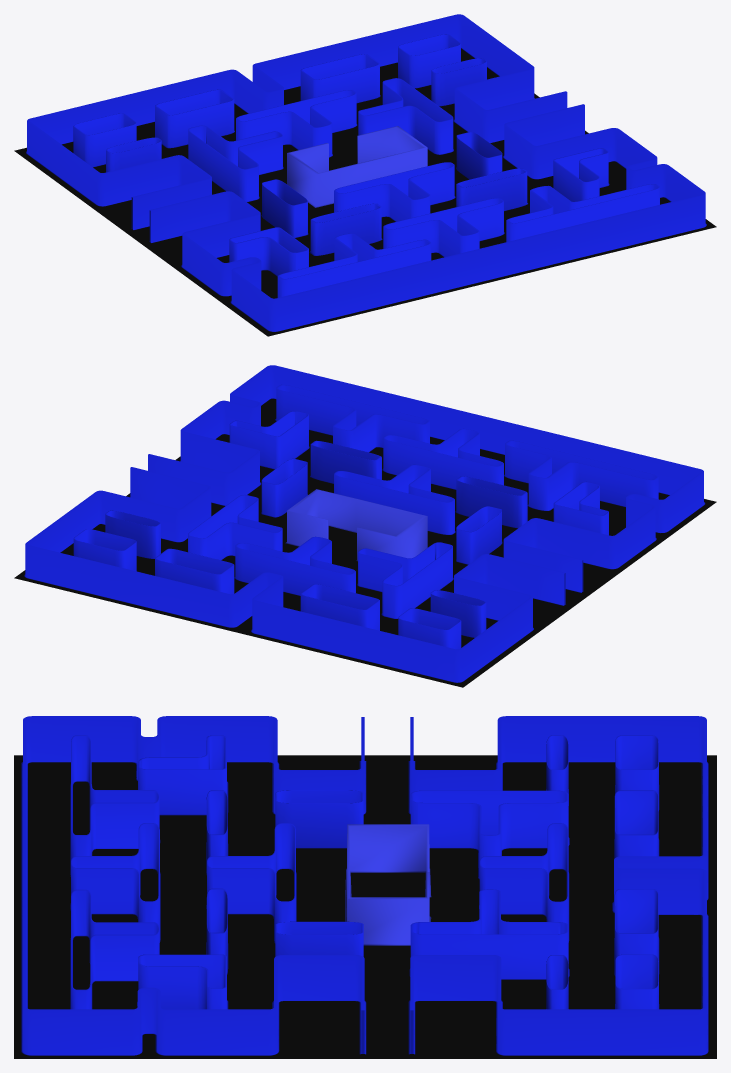
File: mazeWith2halfDepthRedux.fbx
3 views of the same model, one above another, from view 1: azimuth 30°, elevation 25°; view 2: azimuth 150°, elevation 25°; view 3: azimuth 270°, elevation 25° (orthographic). The views are drawn at different scales.
Parts seen in each view (by area): view 1: Plane.021, Floor, Plane.001, Plane.002, Plane.004, Plane.005, Plane.006, Plane, Plane.007, Plane.003, Plane.019, Plane.020 (+10 smaller); view 2: Plane.021, Floor, Plane.001, Plane, Plane.007, Plane.002, Plane.006, Plane.004, Plane.005, Plane.003, Plane.009, Plane.020 (+10 smaller); view 3: Floor, Plane.021, Plane.002, Plane.001, Plane.003, Plane, Plane.007, Plane.004, Plane.006, Plane.005, Plane.008, Plane.009 (+10 smaller).
Part boxes in pixels (left/top/right/bottom): Plane.021: left=26, top=14, right=706, bottom=331; Floor: left=14, top=48, right=716, bottom=336; Plane.001: left=287, top=126, right=427, bottom=207; Plane.002: left=188, top=125, right=283, bottom=201; Plane.004: left=236, top=90, right=357, bottom=157; Plane.005: left=334, top=162, right=455, bottom=221; Plane.006: left=383, top=198, right=504, bottom=257; Plane: left=277, top=233, right=431, bottom=297; Plane.007: left=506, top=184, right=659, bottom=241; Plane.003: left=358, top=78, right=453, bottom=154; Plane.019: left=155, top=89, right=234, bottom=148; Plane.020: left=300, top=54, right=380, bottom=103; Plane.021: left=24, top=365, right=705, bottom=682; Floor: left=14, top=398, right=716, bottom=687; Plane.001: left=285, top=489, right=427, bottom=561; Plane: left=504, top=440, right=658, bottom=510; Plane.007: left=275, top=384, right=429, bottom=452; Plane.002: left=357, top=542, right=453, bottom=618; Plane.006: left=382, top=428, right=503, bottom=489; Plane.004: left=234, top=536, right=355, bottom=595; Plane.005: left=334, top=464, right=455, bottom=534; Plane.003: left=188, top=495, right=282, bottom=560; Plane.009: left=229, top=411, right=309, bottom=469; Plane.020: left=155, top=548, right=234, bottom=594; Floor: left=14, top=755, right=716, bottom=1058; Plane.021: left=21, top=716, right=708, bottom=1055; Plane.002: left=410, top=790, right=569, bottom=879; Plane.001: left=345, top=824, right=431, bottom=945; Plane.003: left=409, top=889, right=569, bottom=979; Plane: left=70, top=735, right=160, bottom=876; Plane.007: left=70, top=889, right=159, bottom=1009; Plane.004: left=479, top=823, right=569, bottom=942; Plane.006: left=70, top=823, right=160, bottom=942; Plane.005: left=206, top=823, right=296, bottom=943; Plane.008: left=138, top=735, right=228, bottom=815; Plane.009: left=137, top=954, right=228, bottom=1009.
Size of the model in its own units: 3690 by 263 by 3613.
